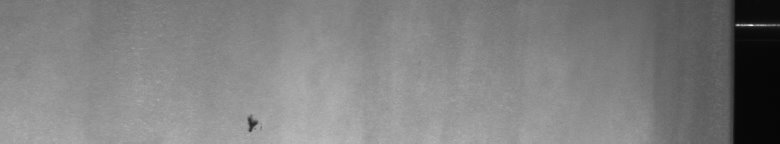fi: (240, 108, 264, 136)
